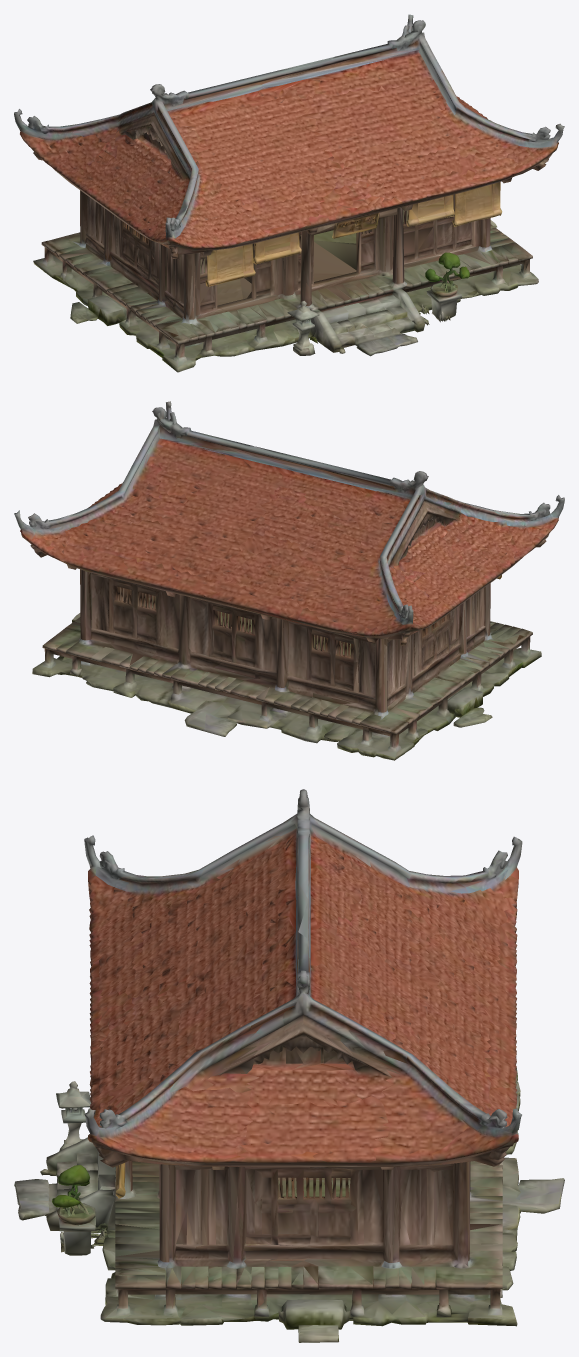
File: meditation-shell.glb
The picture shows the model from 3 angles, top to bottom: view 1: azimuth 30°, elevation 25°; view 2: azimuth 150°, elevation 25°; view 3: azimuth 270°, elevation 25°; orthographic projection. The views are drawn at different scales.
Visible parts, largest first — view 1: thienduong; view 2: thienduong; view 3: thienduong.
Part boxes in pixels (x1=…): thienduong: x1=14, y1=14, x2=564, y2=372; thienduong: x1=14, y1=401, x2=564, y2=760; thienduong: x1=14, y1=789, x2=564, y2=1342.
Bounding box in the file's own units: 0.9866 × 0.5095 × 0.7986.
1 material, 1 textured.
